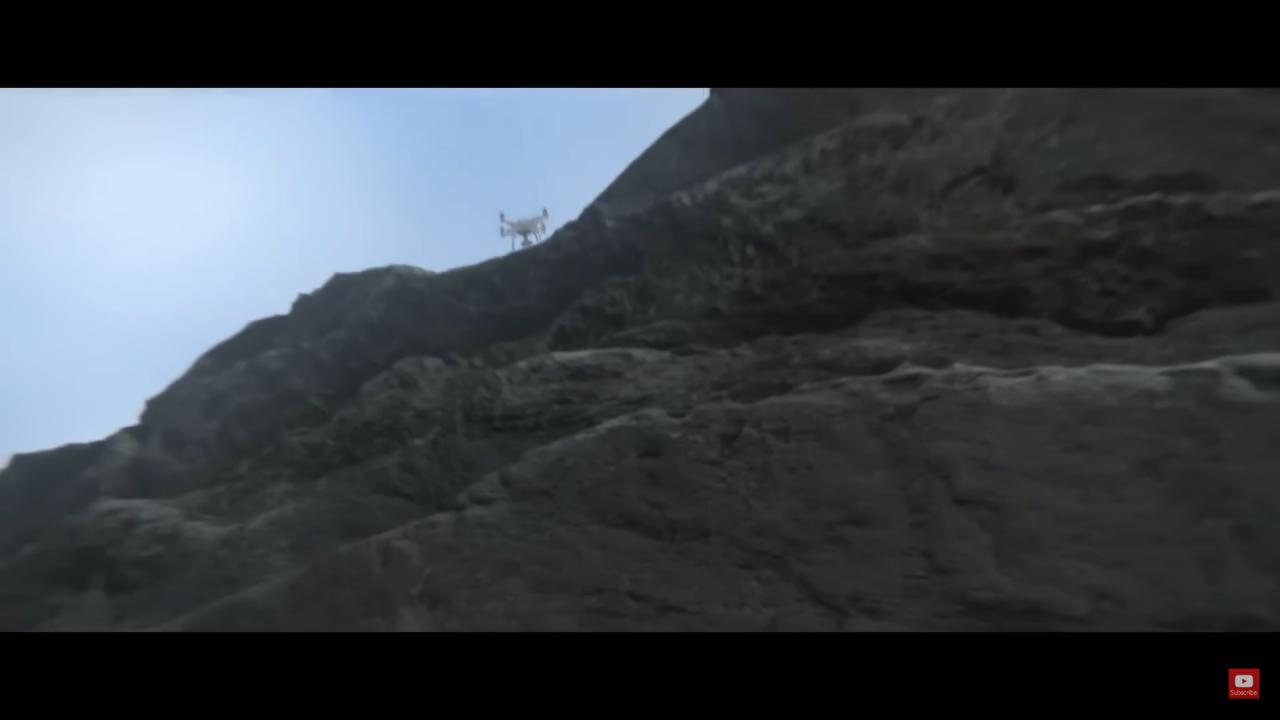Drone: (489, 200, 566, 260)
